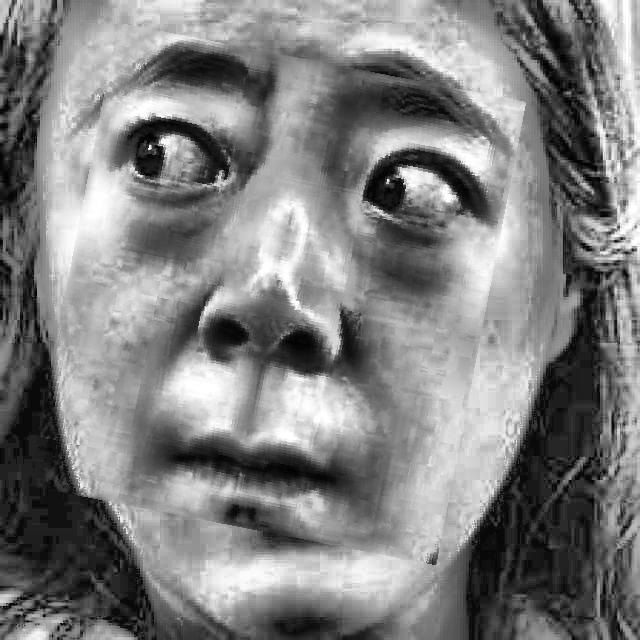fear: (48, 40, 506, 548)
